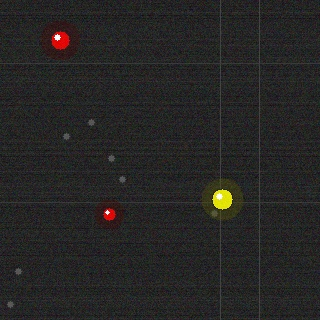red_fault: (49, 29, 71, 51), (101, 206, 117, 222)
yellow_warning: (210, 187, 234, 211)
